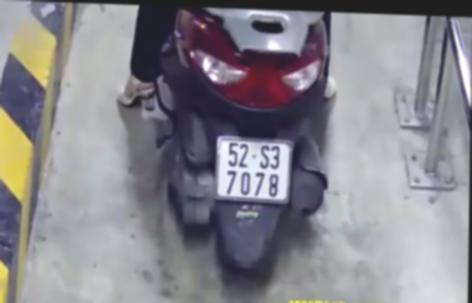License_Plate: (211, 133, 301, 210)
